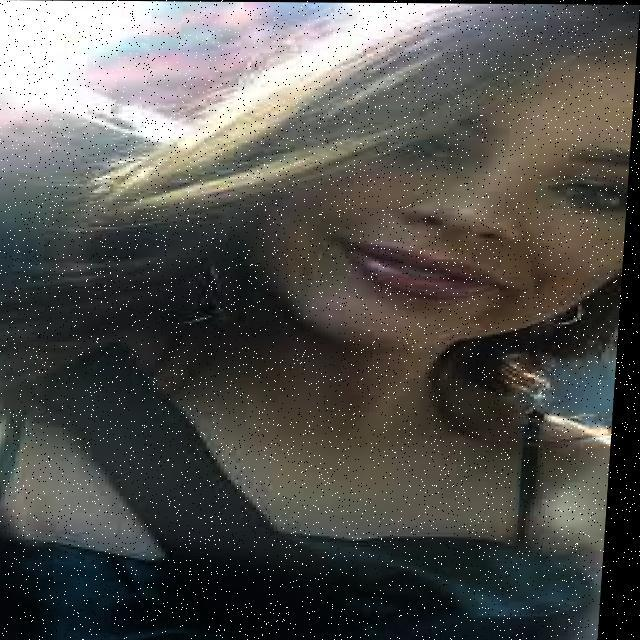seatbelt: (0, 349, 415, 640)
